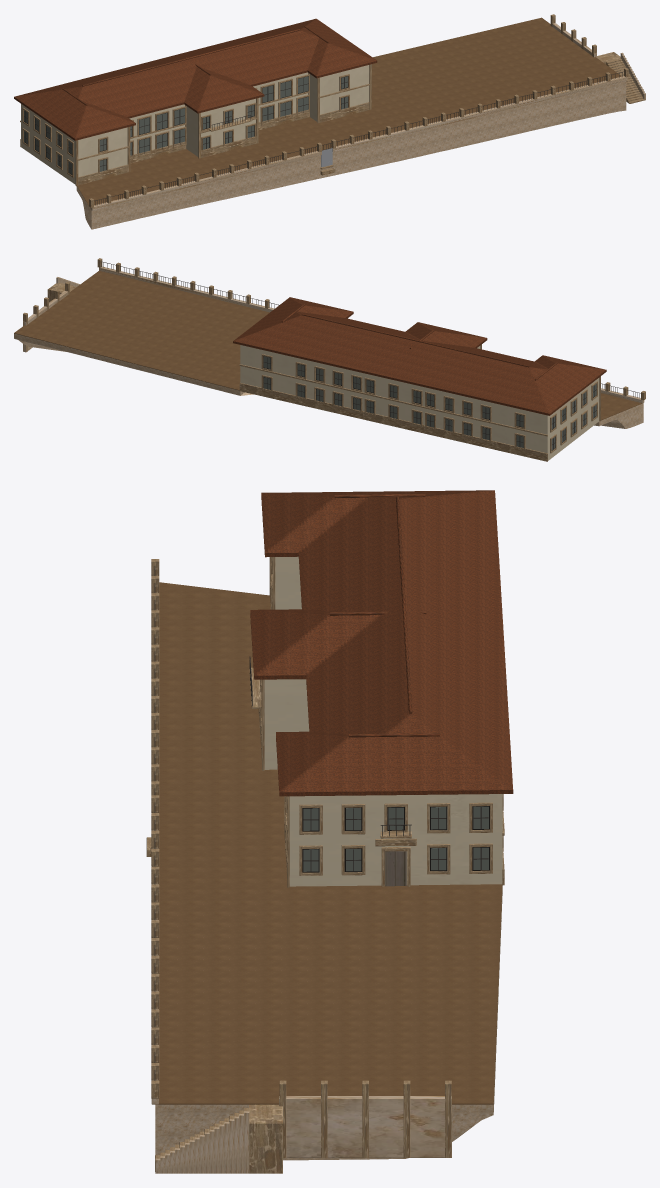
File: grupo_escolar.glb
The picture shows the model from 3 angles, top to bottom: view 1: azimuth 30°, elevation 25°; view 2: azimuth 150°, elevation 25°; view 3: azimuth 270°, elevation 25°; orthographic projection. The views are drawn at different scales.
Parts seen in each view (by area): view 1: Pavimento_terraza_v04, Cubierta_compuesta_cinco_cuerpos_v04, Terraza_escolar_v04_con_contencion, Cuerpo_01_saliente_oeste_v04, Cuerpo_05_saliente_este_v04, Cuerpo_03_saliente_central_v04, Muro_cerca_v04_2, Muro_cerca_v04_1, Cuerpo_02_retranqueado_oeste_v04, Cuerpo_04_retranqueado_este_v04, Cumbrera_v04_01, saliente_central_zocalo_sur (+4 smaller); view 2: Cubierta_compuesta_cinco_cuerpos_v04, Pavimento_terraza_v04, Cuerpo_01_saliente_oeste_v04, Terraza_escolar_v04_con_contencion, Cuerpo_05_saliente_este_v04, Cuerpo_04_retranqueado_este_v04, Cuerpo_03_saliente_central_v04, Cuerpo_02_retranqueado_oeste_v04, Muro_cerca_v04_2, retranqueado_este_zocalo_norte, retranqueado_oeste_zocalo_norte, Cumbrera_v04_01 (+3 smaller); view 3: Pavimento_terraza_v04, Cubierta_compuesta_cinco_cuerpos_v04, Cuerpo_05_saliente_este_v04, Muro_cerca_v04_patio_este, Terraza_escolar_v04_con_contencion, Cuerpo_03_saliente_central_v04, Escalera_este_rellano, Cuerpo_01_saliente_oeste_v04.
Boxes of the visible parts, x1,y1,x2,y2 form: Pavimento_terraza_v04: (77, 17, 621, 208); Cubierta_compuesta_cinco_cuerpos_v04: (14, 18, 377, 140); Terraza_escolar_v04_con_contencion: (76, 81, 626, 229); Cuerpo_01_saliente_oeste_v04: (21, 104, 127, 184); Cuerpo_05_saliente_este_v04: (310, 65, 369, 121); Cuerpo_03_saliente_central_v04: (186, 98, 255, 156); Muro_cerca_v04_2: (334, 76, 627, 151); Muro_cerca_v04_1: (90, 151, 318, 210); Cuerpo_02_retranqueado_oeste_v04: (129, 104, 184, 154); Cuerpo_04_retranqueado_este_v04: (253, 72, 308, 121); Cumbrera_v04_01: (82, 29, 300, 86); saliente_central_zocalo_sur: (201, 136, 256, 157); Cubierta_compuesta_cinco_cuerpos_v04: (233, 297, 606, 415); Pavimento_terraza_v04: (14, 271, 641, 420); Cuerpo_01_saliente_oeste_v04: (493, 378, 599, 460); Terraza_escolar_v04_con_contencion: (14, 333, 643, 428); Cuerpo_05_saliente_este_v04: (240, 345, 294, 395); Cuerpo_04_retranqueado_este_v04: (295, 357, 363, 410); Cuerpo_03_saliente_central_v04: (364, 346, 480, 424); Cuerpo_02_retranqueado_oeste_v04: (424, 387, 492, 440); Muro_cerca_v04_2: (99, 266, 274, 312); retranqueado_este_zocalo_norte: (294, 395, 363, 419); retranqueado_oeste_zocalo_norte: (424, 425, 492, 448); Cumbrera_v04_01: (301, 313, 529, 367); Pavimento_terraza_v04: (155, 582, 502, 1104); Cubierta_compuesta_cinco_cuerpos_v04: (250, 490, 513, 796); Cuerpo_05_saliente_este_v04: (289, 794, 502, 886); Muro_cerca_v04_patio_este: (279, 1096, 451, 1157); Terraza_escolar_v04_con_contencion: (155, 886, 502, 1160); Cuerpo_03_saliente_central_v04: (264, 679, 309, 769); Escalera_este_rellano: (249, 1104, 282, 1173); Cuerpo_01_saliente_oeste_v04: (275, 556, 301, 609).
Size of what is drawn, in the model's own units: 98.84 by 16.86 by 28.21.
Materials: 10 (6 with a texture image).
